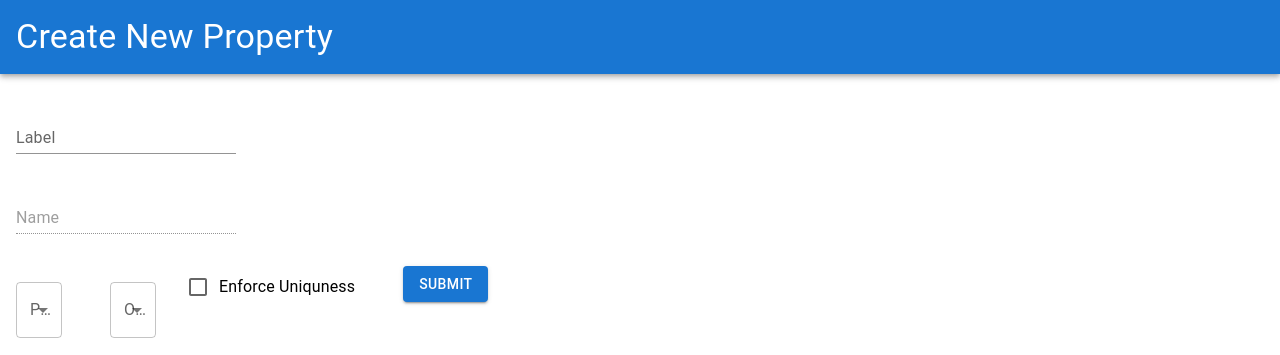
Test: PropertyEditor › shows error alert when submitting with missing fields
Click the button "Submit" at [446, 284], box [403,266,488,302]
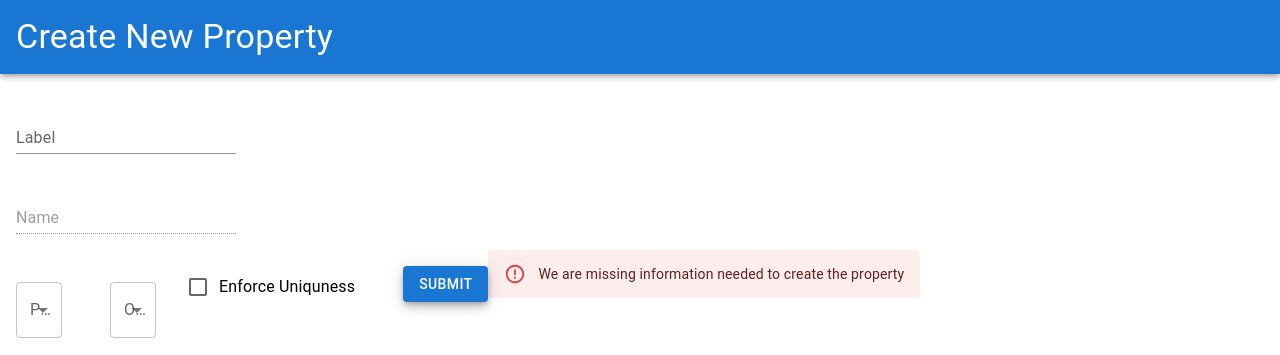
Result: the text "We are missing information needed to create the property" is shown at [538,266,904,282]
